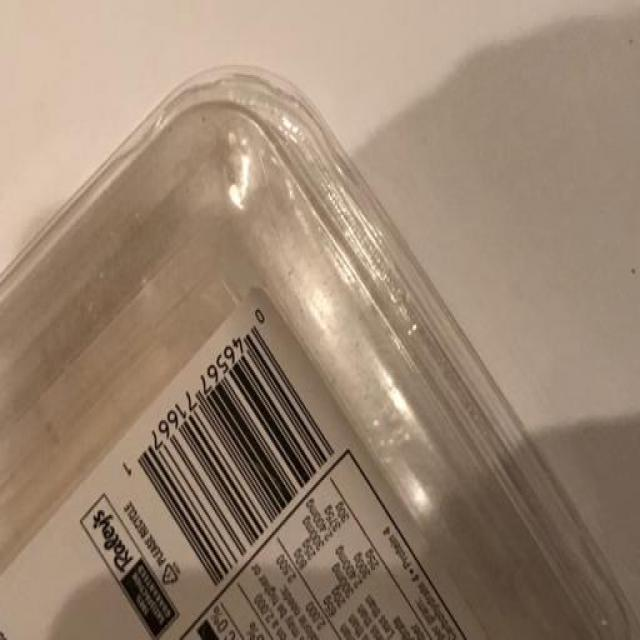plastic_bottle: (3, 59, 640, 622)
